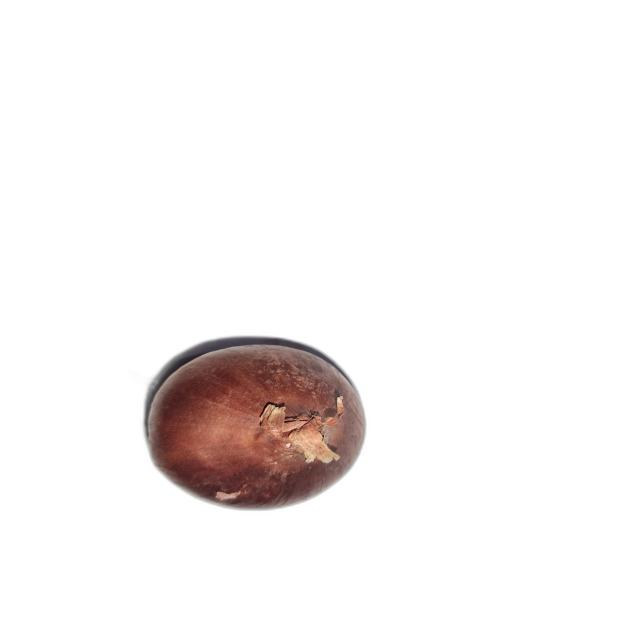onion: (149, 344, 366, 510)
